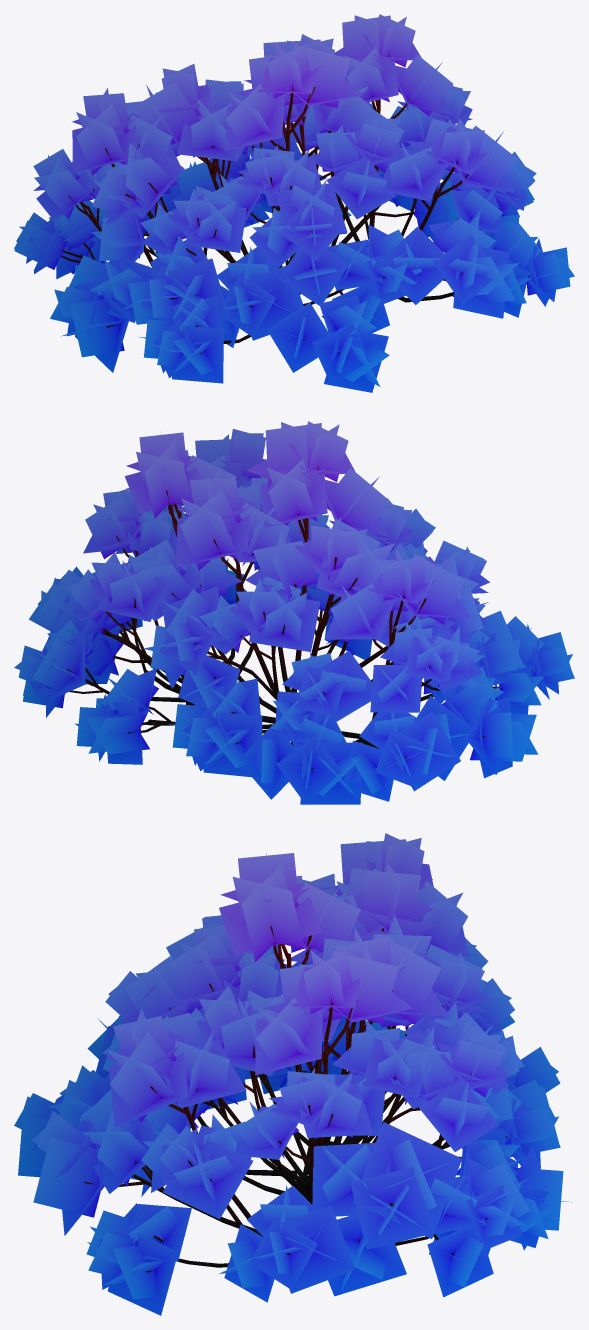
File: SM_Env_Bush_Tropical_02.fbx
3 renders of one model, top to bottom at view 1: azimuth 30°, elevation 25°; view 2: azimuth 150°, elevation 25°; view 3: azimuth 270°, elevation 25°, orthographic. The views are drawn at different scales.
Visible parts, largest first — view 1: SM_Env_Bush_Tropical_02_LOD0; view 2: SM_Env_Bush_Tropical_02_LOD0; view 3: SM_Env_Bush_Tropical_02_LOD0.
Part boxes in pixels (<box>): SM_Env_Bush_Tropical_02_LOD0: <box>14,14,574,392</box>; SM_Env_Bush_Tropical_02_LOD0: <box>14,421,574,804</box>; SM_Env_Bush_Tropical_02_LOD0: <box>14,833,572,1315</box>.
Size of what is drawn, in the model's own units: 358 by 211 by 304.
